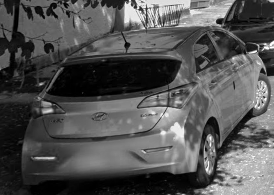car: (20, 28, 270, 183)
